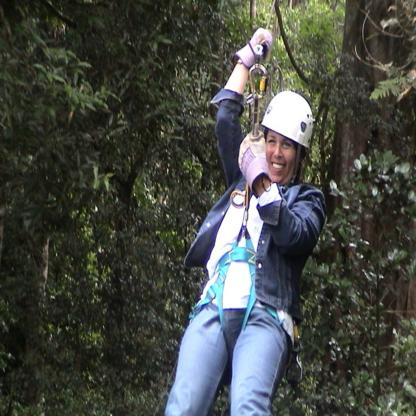Helmet: (260, 93, 312, 182)
